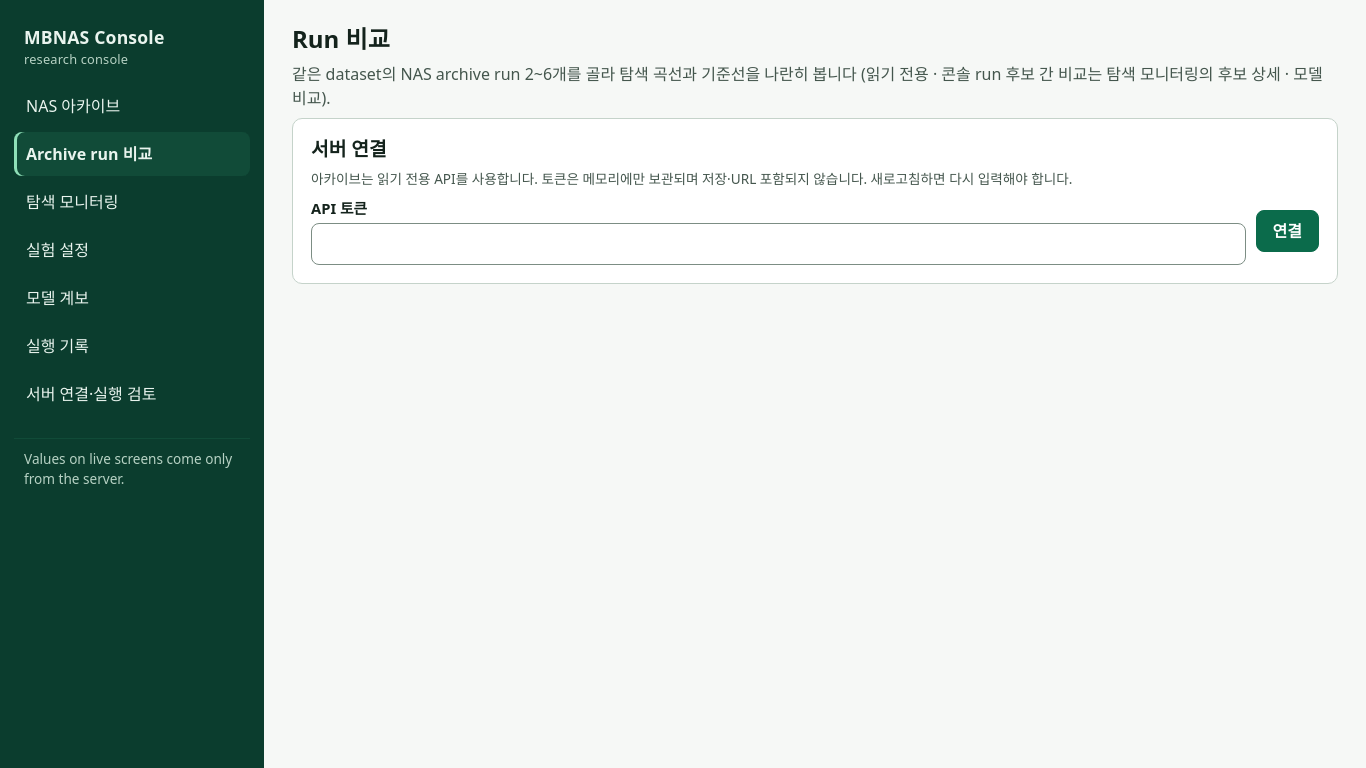
it: Compare screen: 실행 조건 › a server without conditions shows 기록 없음 everywhere and no warning (nothing is inferred)
The width and height of the screenshot is (1366, 768).
Type "TEST-TOKEN" into the password field labelled "API 토큰" at (778, 244), box x1=311 y1=224 x2=1246 y2=266
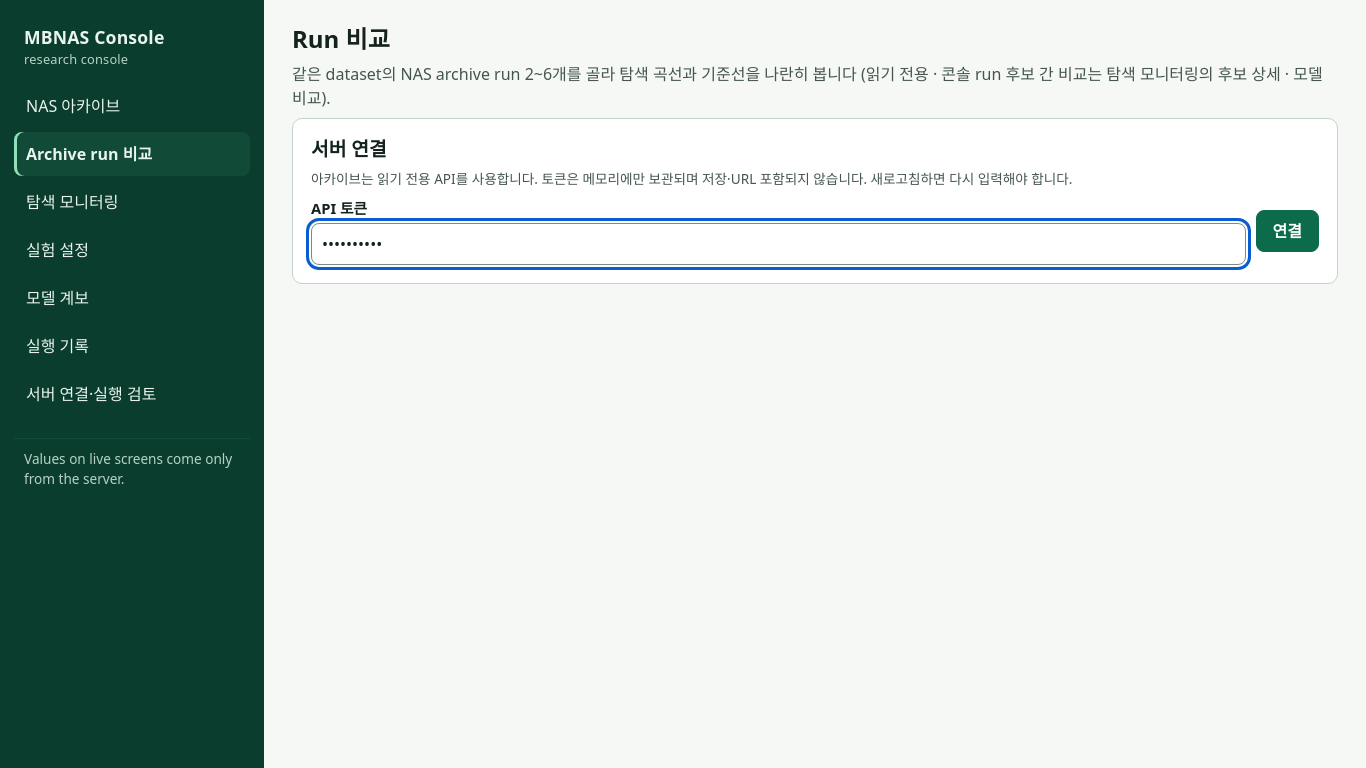
Click the button with test id "gate-connect" at (1287, 231), box x1=1256 y1=210 x2=1319 y2=252
(page scrolled)
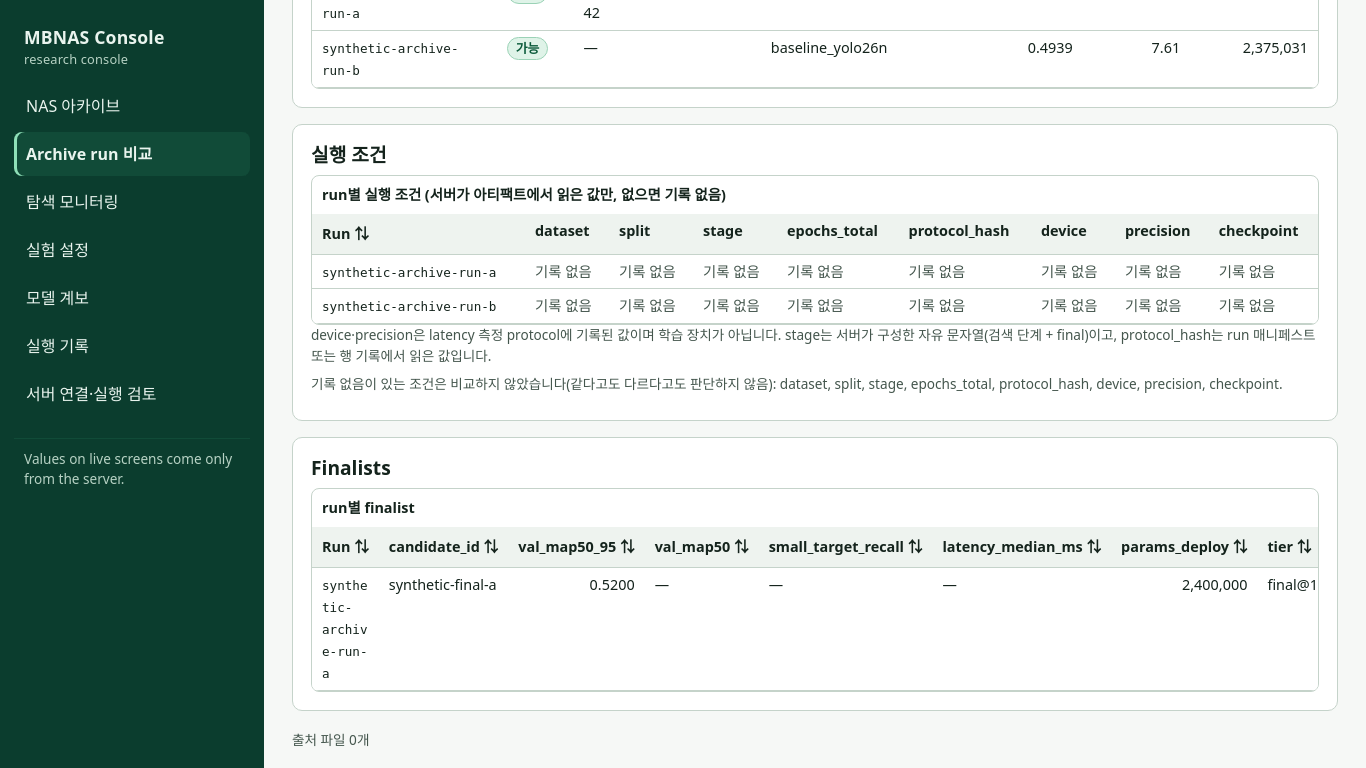
Check: the element with test id "compare-conditions-table" is shown, box x1=311 y1=175 x2=1319 y2=325
Check: the text "기록 없음" is shown 8 times
Check: the text with test id "compare-conditions-unknown" shows "dataset, split, stage, epochs_total, protocol_hash, device, precision, checkpoint", box x1=780 y1=374 x2=1279 y2=393
